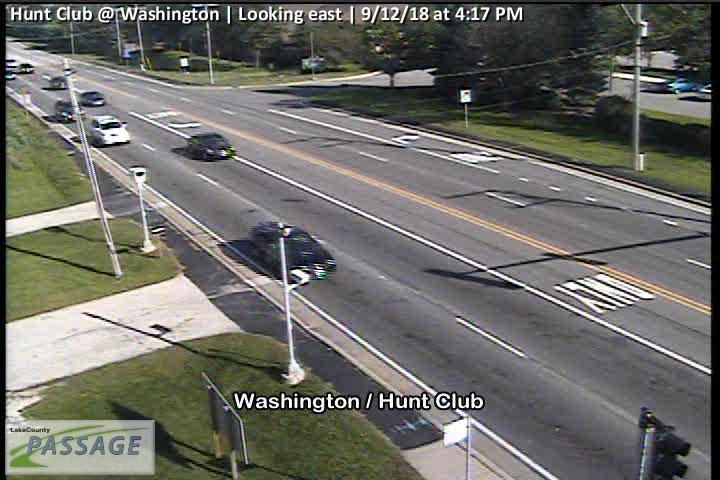Sedan: (247, 221, 337, 281), (187, 132, 234, 159), (90, 116, 130, 145), (56, 101, 85, 123), (665, 77, 700, 94), (81, 91, 105, 105), (46, 76, 67, 89)
